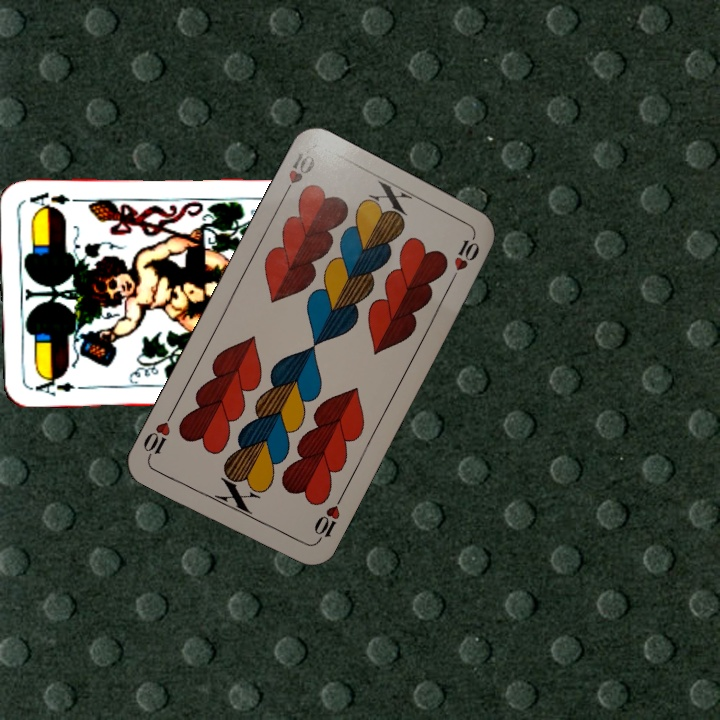EA: (26, 372, 77, 399)
H10: (278, 148, 318, 202), (310, 492, 345, 547)
